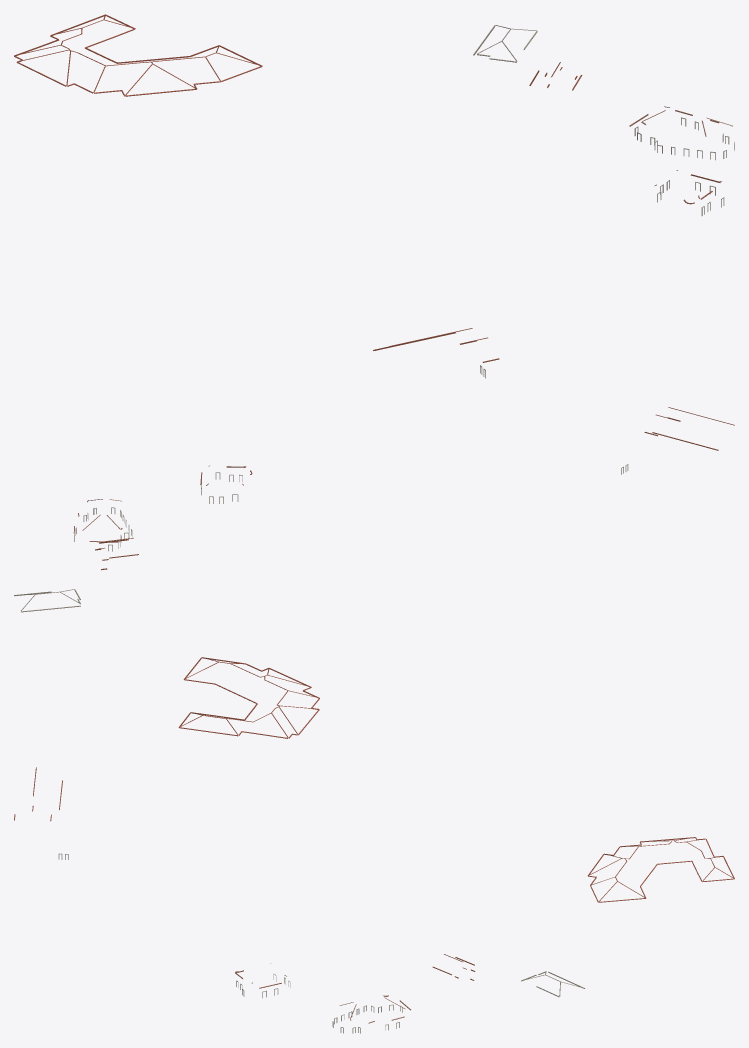
The picture shows the model from 3 angles, top to bottom: view 1: azimuth 30°, elevation 25°; view 2: azimuth 150°, elevation 25°; view 3: azimuth 270°, elevation 25°; orthographic projection. The views are drawn at different scales.
Visible parts, largest first — view 1: detail; view 2: detail; view 3: detail.
Part boxes in pixels (x1,y1,x2,y2): detail: [14, 14, 734, 378]; detail: [14, 407, 734, 738]; detail: [14, 767, 734, 1033].
Size of the model in its own units: 180 by 27.83 by 273.
